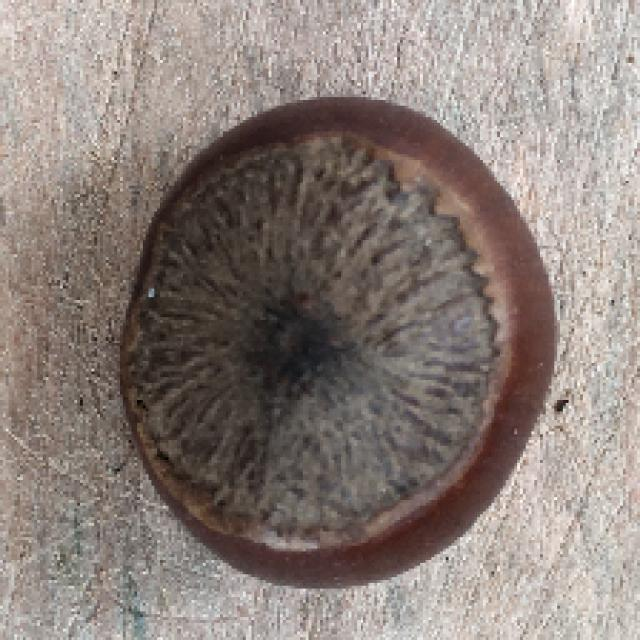qualityHazelnut: (123, 90, 554, 590)
